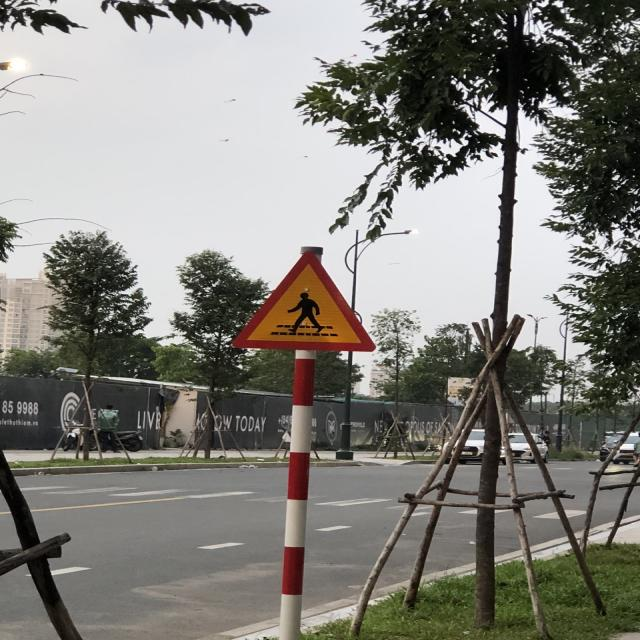Bien bao duong nguoi di bo cat ngang: (207, 242, 386, 357)
